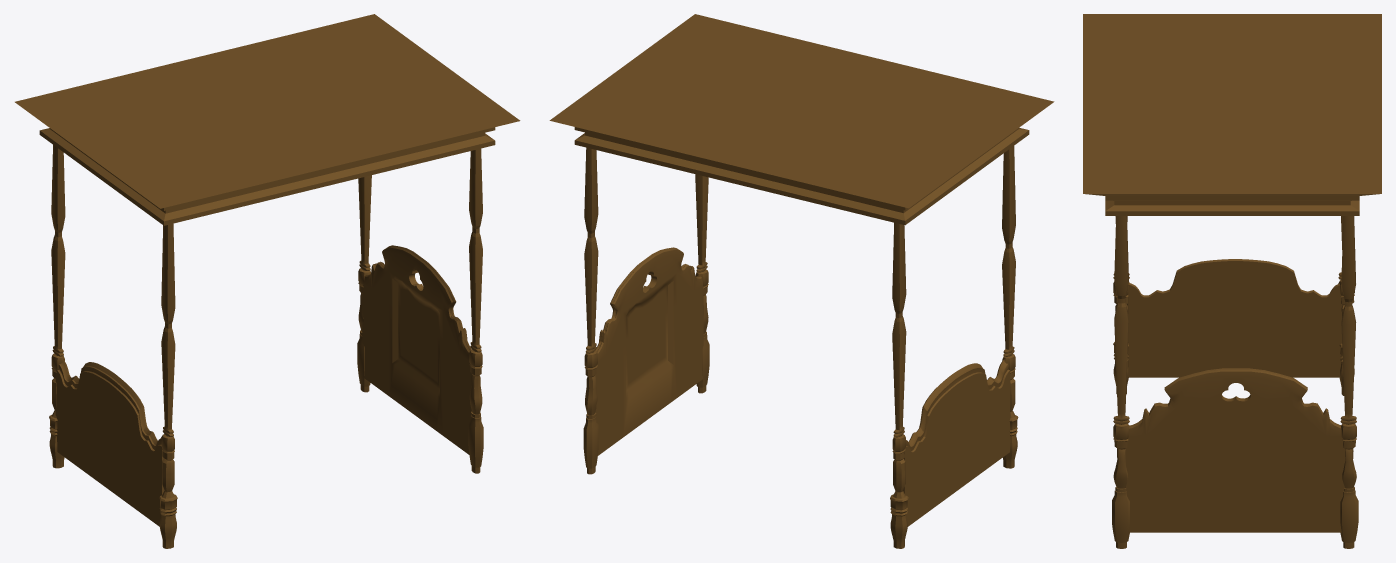
The model's file is bed frame.FBX.
3 renders of one model, left to right at view 1: azimuth 30°, elevation 25°; view 2: azimuth 150°, elevation 25°; view 3: azimuth 270°, elevation 25°, orthographic. The views are drawn at different scales.
Parts seen in each view (by area): view 1: BedSupports; view 2: BedSupports; view 3: BedSupports.
Part boxes in pixels (x1,y1,x2,y2): BedSupports: (15, 14, 520, 548); BedSupports: (549, 14, 1054, 548); BedSupports: (1083, 14, 1381, 548).
Bounding box in the file's own units: 109 × 76.44 × 103.
